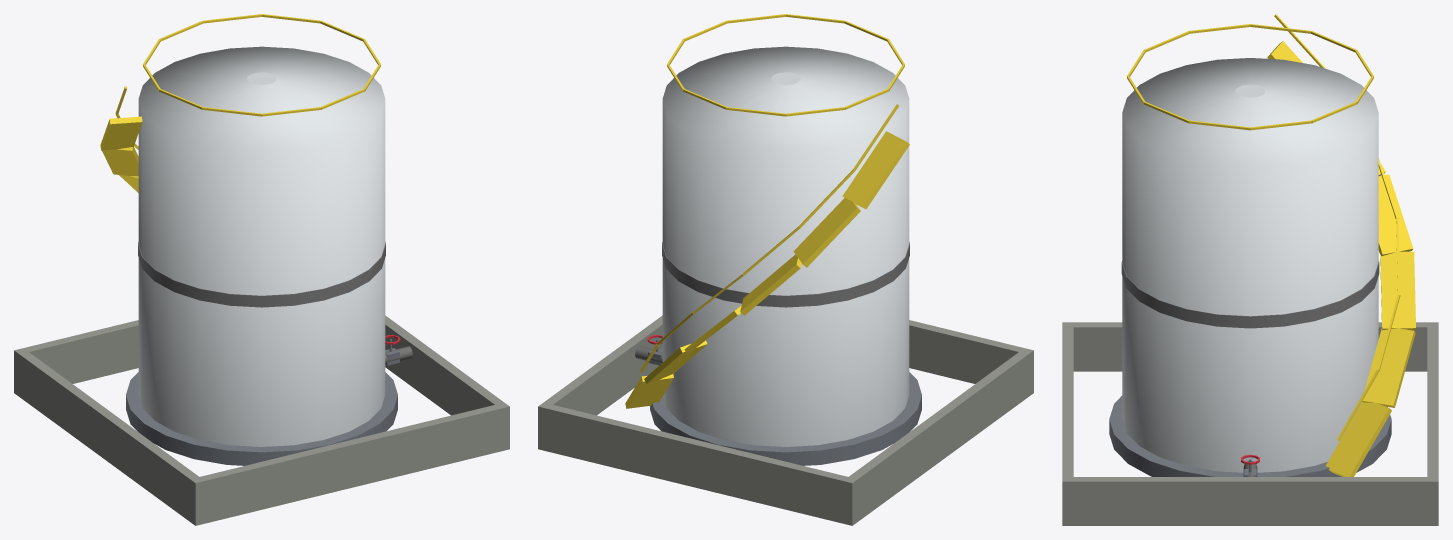
Rendered from port_cargo2.fbx.
3 views of the same model, side by side, from view 1: azimuth 30°, elevation 25°; view 2: azimuth 150°, elevation 25°; view 3: azimuth 270°, elevation 25° (orthographic). The views are drawn at different scales.
Visible parts, largest first — view 1: a402_0_port_cargo2; view 2: a402_0_port_cargo2; view 3: a402_0_port_cargo2.
Boxes of the visible parts, x1,y1,x2,y2 form: a402_0_port_cargo2: (14,14,509,525); a402_0_port_cargo2: (538,14,1033,525); a402_0_port_cargo2: (1062,14,1438,525).
Bounding box in the file's own units: 10 × 10.85 × 10.
